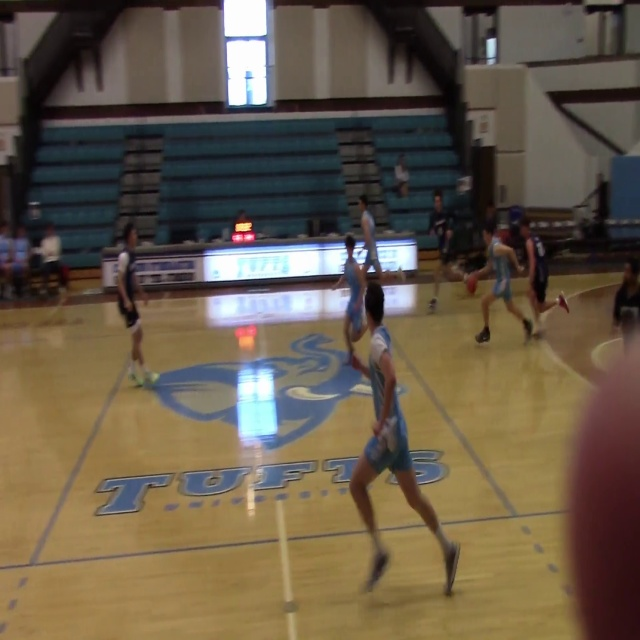Basketball: (565, 346, 639, 639), (466, 274, 477, 294)
